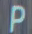Parking: (7, 2, 26, 33)
